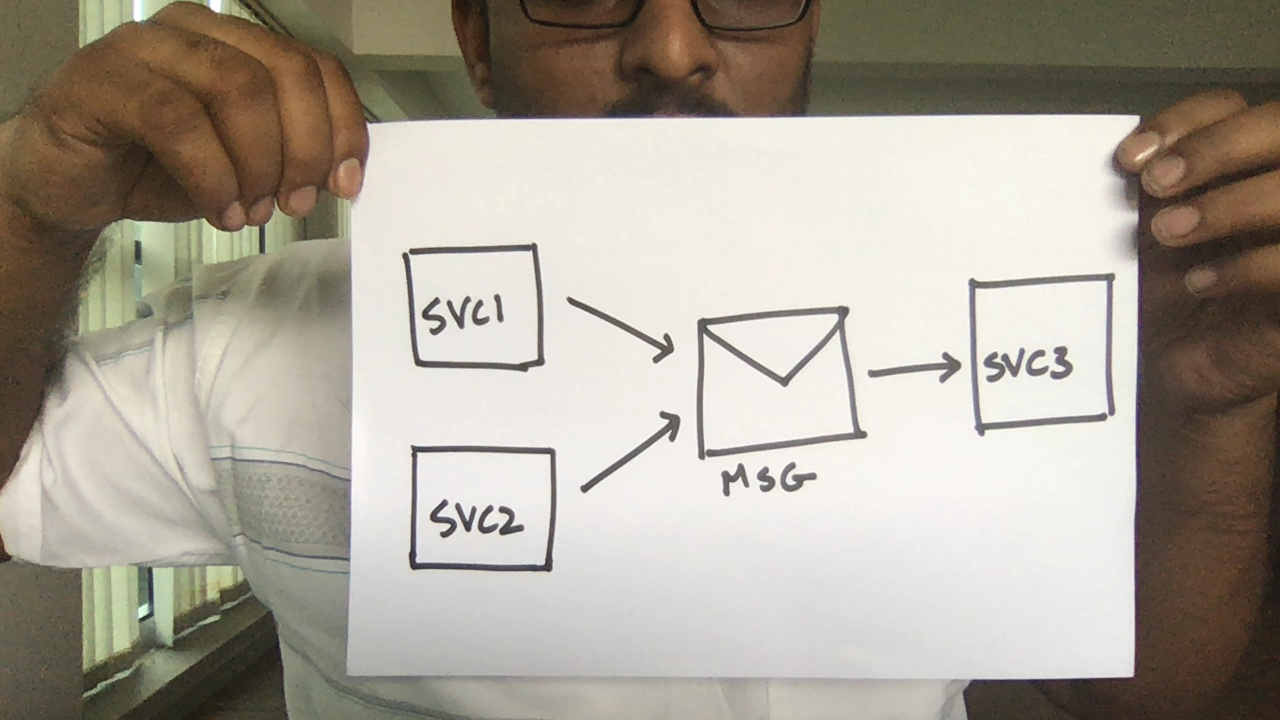arrow: (573, 404, 687, 499), (563, 291, 680, 369), (859, 340, 965, 410)
ec2: (965, 268, 1119, 441), (397, 237, 556, 383), (404, 431, 563, 577)
sns: (689, 296, 872, 499)
